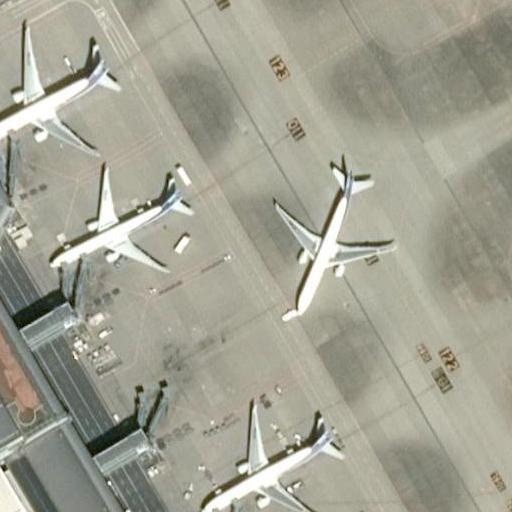Aircraft: (38, 154, 194, 281), (270, 160, 391, 309), (0, 20, 119, 155), (193, 400, 336, 512)
